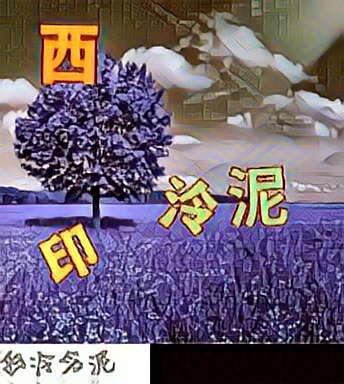C4E0: (226, 164, 288, 228)
CEF7: (38, 21, 100, 85)
D3A1: (37, 222, 99, 286)
E3F6: (156, 173, 218, 237)
